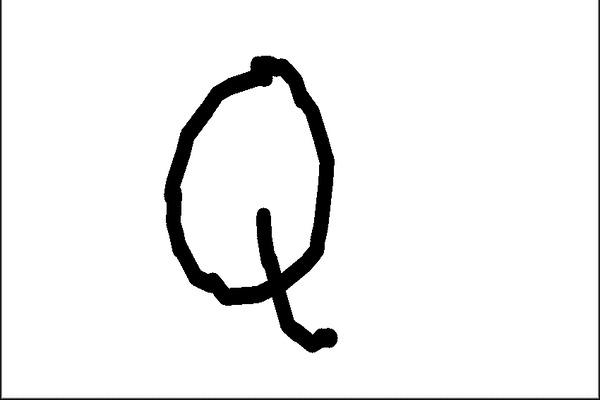Q: (145, 47, 365, 367)
